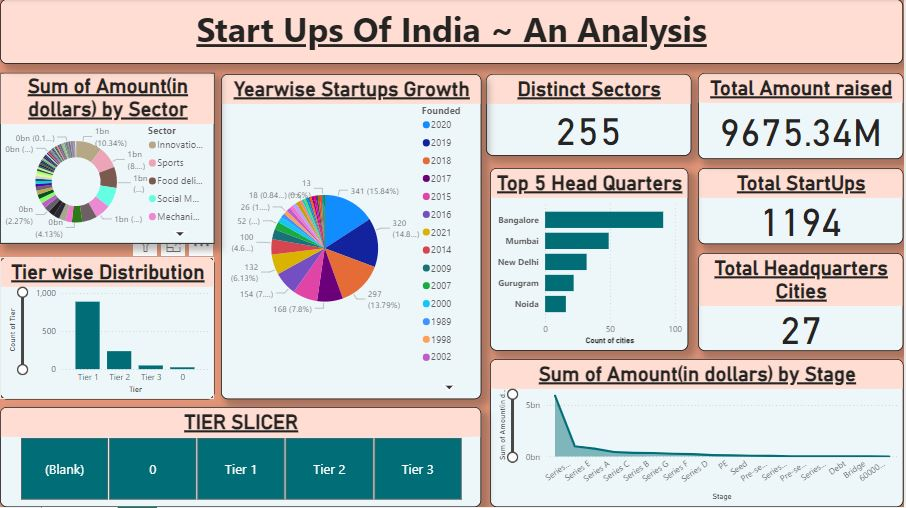

The dashboard page shown, as its layout file describes it:
{"tool":"powerbi","page":{"name":"Page 1","canvas":[1280,720],"ordinal":0},"visuals":[{"type":"card","title":"Total StartUps","fields":{"Values":["Count(Indian Startups.startUpCount)"]},"box":[989.3,239.5,290.6,107.7],"z":0},{"type":"columnChart","title":"Tier wise Distribution","fields":{"Category":["Indian Startups.Tier"],"Y":["CountNonNull(Indian Startups.Tier)"]},"box":[0,365.8,303.8,201.6],"z":1000},{"type":"card","title":"Distinct Sectors","fields":{"Values":["Count(Indian Startups (2).sectorTotal)"]},"box":[688.8,106.3,290.6,116.2],"z":2000},{"type":"card","title":"Total Amount raised","fields":{"Values":["Sum(Indian Startups (2).Amount(in dollars))"]},"box":[989.3,104.9,290.6,121.9],"z":3000},{"type":"card","title":"Total Headquarters Cities","fields":{"Values":["Count(Indian Startups (2).Headquarters)"]},"box":[989.3,360,290.6,138.9],"z":4000},{"type":"pieChart","title":"Yearwise Startups Growth","fields":{"Y":["Sum(Indian Startups (2).FoundsCount)"],"Category":["Indian Startups (2).Founded"]},"box":[313.9,106.6,368.6,460.8],"z":5000},{"type":"barChart","title":"Top 5 Head Quarters","fields":{"Category":["Indian Startups (3).Headquarters"],"Y":["CountNonNull(Indian Startups (3).Top5HQ)"]},"box":[694.5,239.5,280.6,259.4],"z":6000},{"type":"areaChart","fields":{"Y":["Sum(Indian Startups (2).Amount(in dollars))"],"Category":["Indian Startups (2).Stage"]},"box":[694.1,509.8,586.1,210.2],"z":7000},{"type":"donutChart","fields":{"Category":["Indian Startups (2).Sector"],"Y":["Sum(Indian Startups (2).Amount(in dollars))"]},"box":[0,105.1,303.8,241.9],"z":8000},{"type":"textbox","box":[0,0,1280.2,92.2],"z":8001},{"type":"slicer","title":"TIER SLICER","fields":{"Values":["Indian Startups (2).Tier"]},"box":[0,578.3,681.7,141.7],"z":8002}]}

Visuals, with their boxes in screenshot pixels (x1, y1, x2, y2), scaled from the page's 1280x720 canvas onto the 906x508 screenshot:
"Total StartUps" card: 700:169:905:245
"Tier wise Distribution" columnChart: 0:258:215:400
"Distinct Sectors" card: 488:75:693:157
"Total Amount raised" card: 700:74:905:160
"Total Headquarters Cities" card: 700:254:905:352
"Yearwise Startups Growth" pieChart: 222:75:483:400
"Top 5 Head Quarters" barChart: 492:169:690:352
areaChart - Sum(Indian Startups (2).Amount(in dollars)) x Indian Startups (2).Stage: 491:360:905:507
donutChart - Indian Startups (2).Sector x Sum(Indian Startups (2).Amount(in dollars)): 0:74:215:245
textbox: 0:0:905:65
"TIER SLICER" slicer: 0:408:483:507
